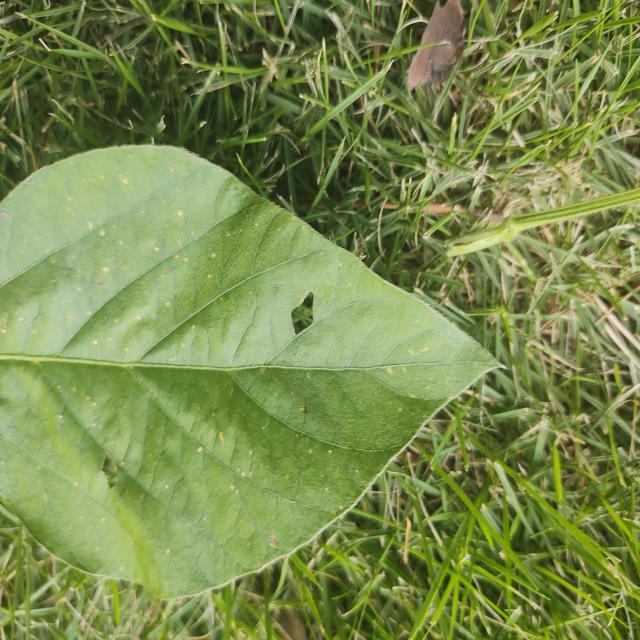Soybean: (0, 144, 501, 605)
downey_mildew: (406, 0, 467, 93), (286, 291, 319, 347), (100, 305, 132, 341), (183, 435, 216, 469), (296, 393, 324, 432), (99, 452, 117, 480)
